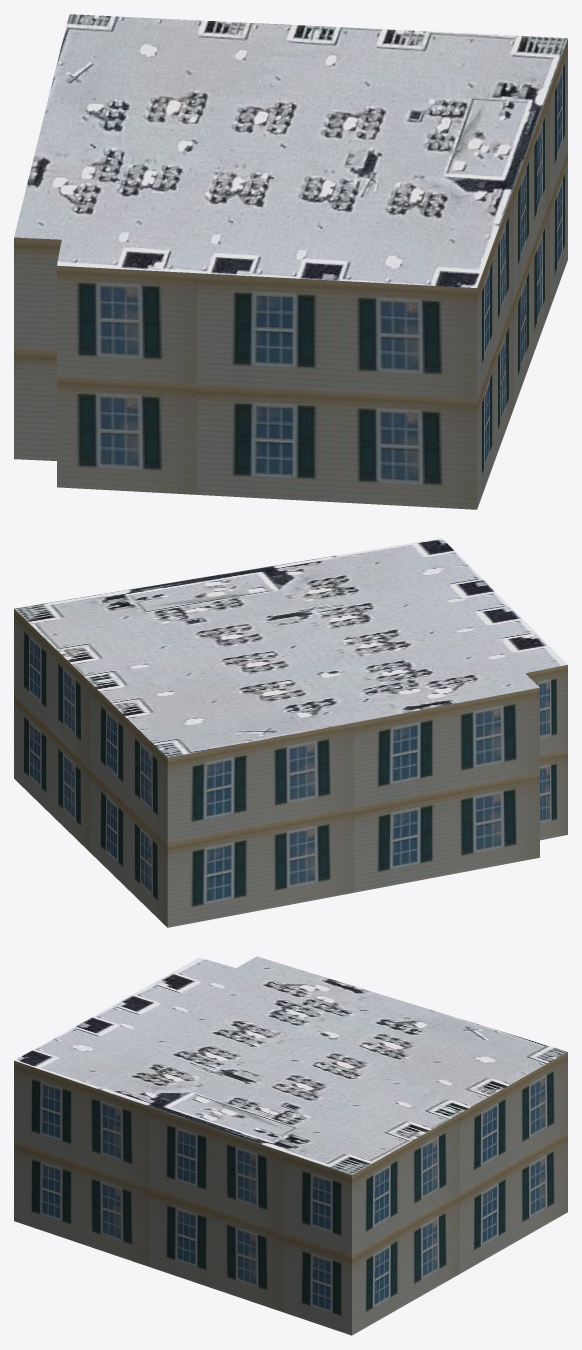
Rendered from ResTex__3974.fbx.
3 renders of one model, top to bottom at view 1: azimuth 30°, elevation 25°; view 2: azimuth 150°, elevation 25°; view 3: azimuth 270°, elevation 25°, orthographic. The views are drawn at different scales.
Visible parts, largest first — view 1: CityEngineMaterial_7_m, CityEngineMaterial_4_m; view 2: CityEngineMaterial_7_m, CityEngineMaterial_4_m; view 3: CityEngineMaterial_7_m, CityEngineMaterial_4_m.
Part boxes in pixels (box(x1,y1,x2,y2)): CityEngineMaterial_7_m: box(14, 39, 567, 509); CityEngineMaterial_4_m: box(14, 14, 567, 287); CityEngineMaterial_7_m: box(14, 609, 567, 927); CityEngineMaterial_4_m: box(14, 538, 567, 757); CityEngineMaterial_7_m: box(14, 1052, 567, 1335); CityEngineMaterial_4_m: box(14, 956, 567, 1174).
Size of the model in its own units: 17.56 by 6 by 18.78.
2 materials, 2 textured.
